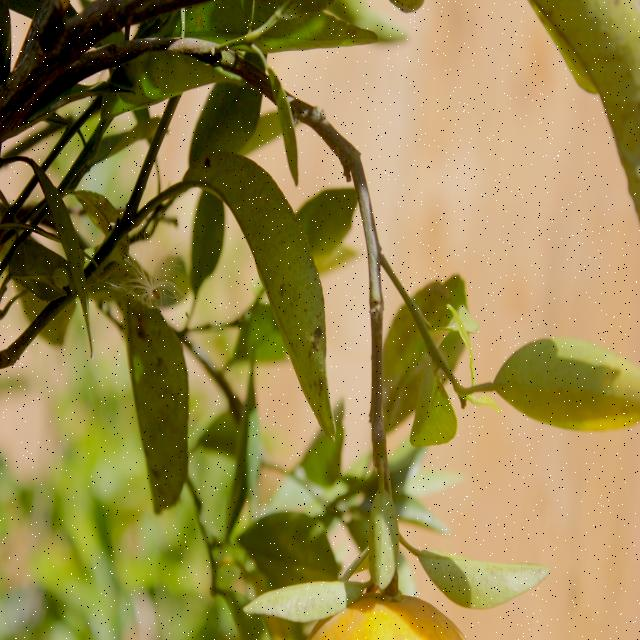melanose: (198, 131, 340, 444), (119, 288, 196, 522)
